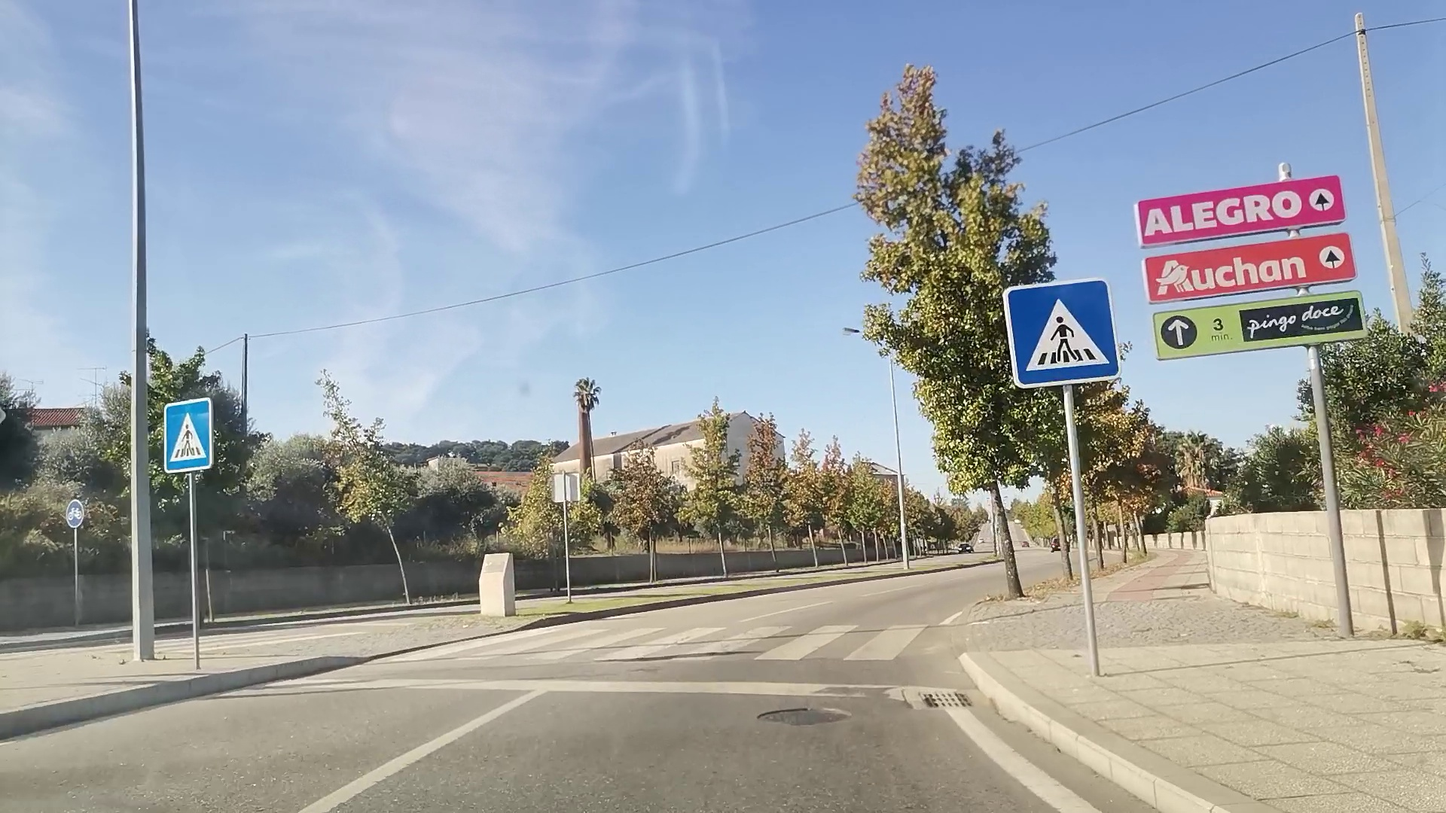Stairs: (414, 625, 935, 674)
